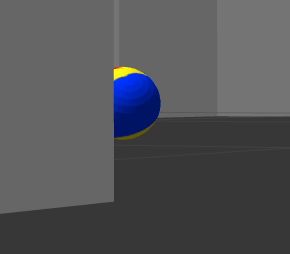toy story ball: (113, 67, 160, 141)
